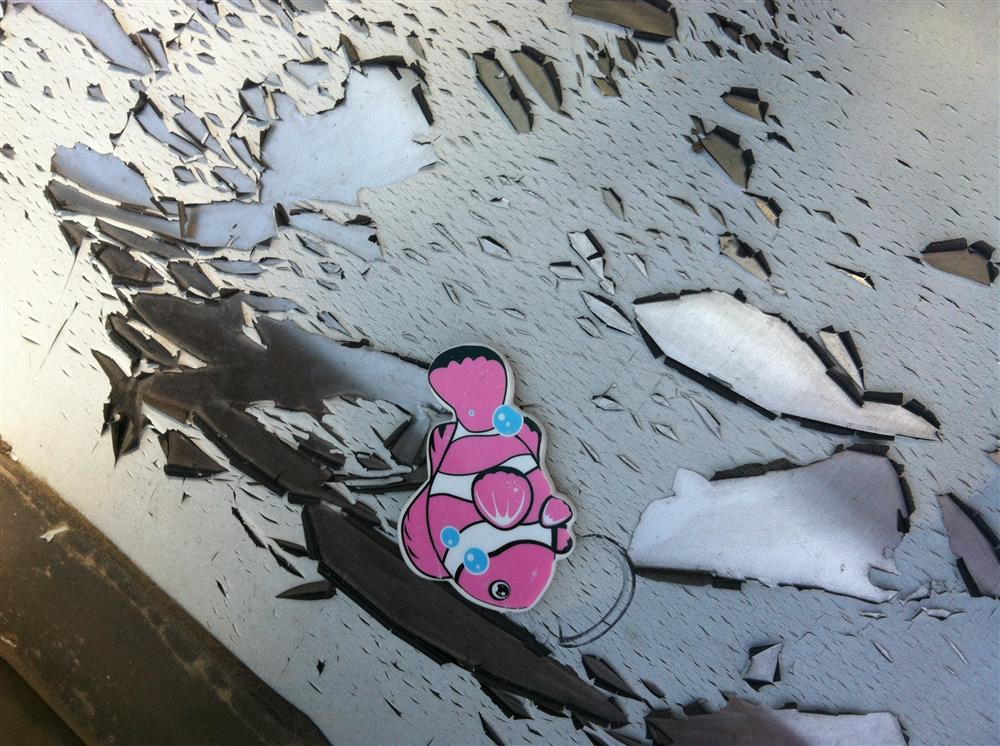fish_sticker: (396, 330, 580, 610)
